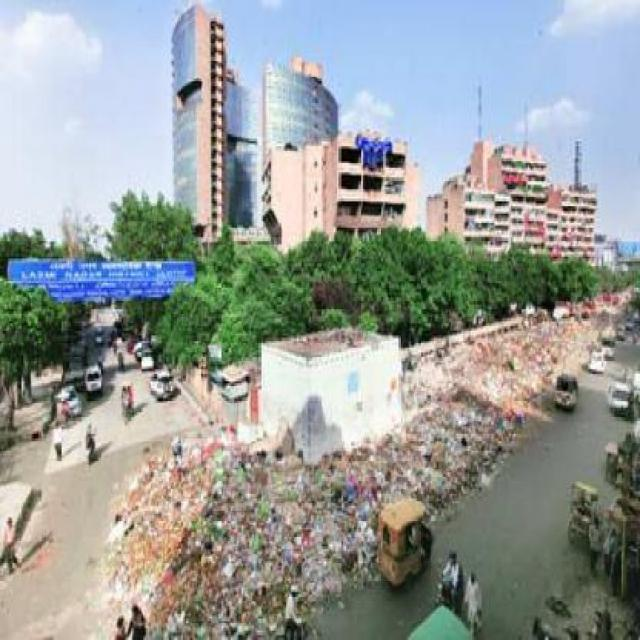garbage: (125, 443, 294, 613), (399, 357, 486, 480), (294, 463, 376, 570)
